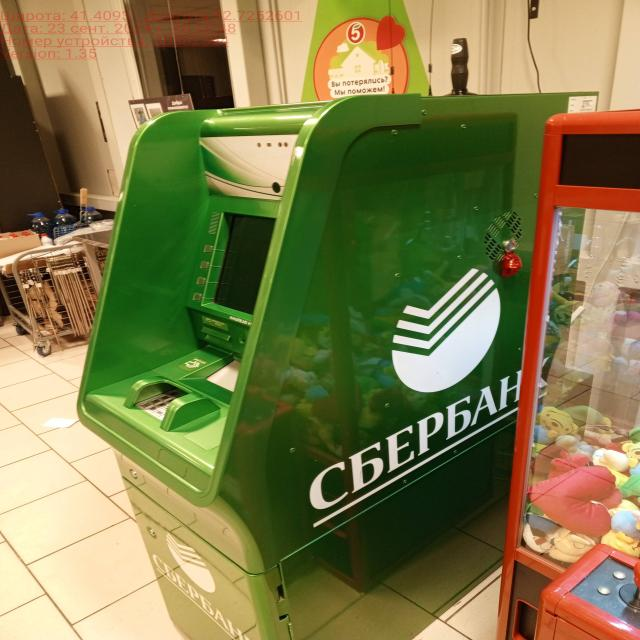bank: (72, 91, 606, 640)
